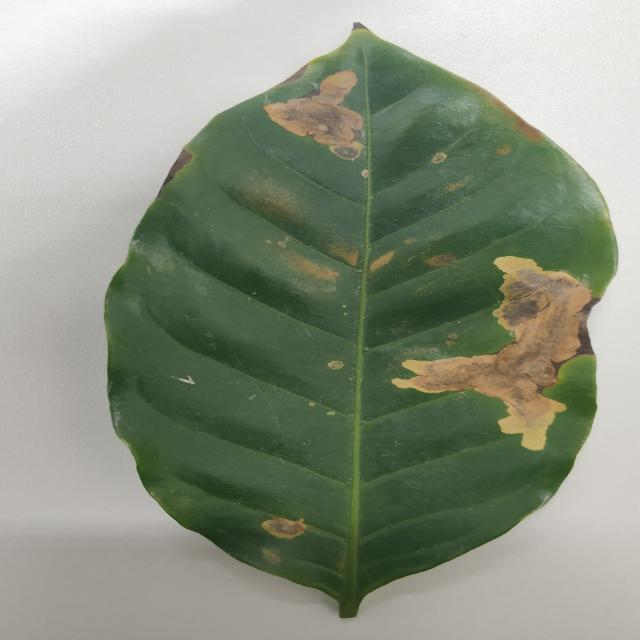Plaga-Minador: (102, 23, 620, 622)
